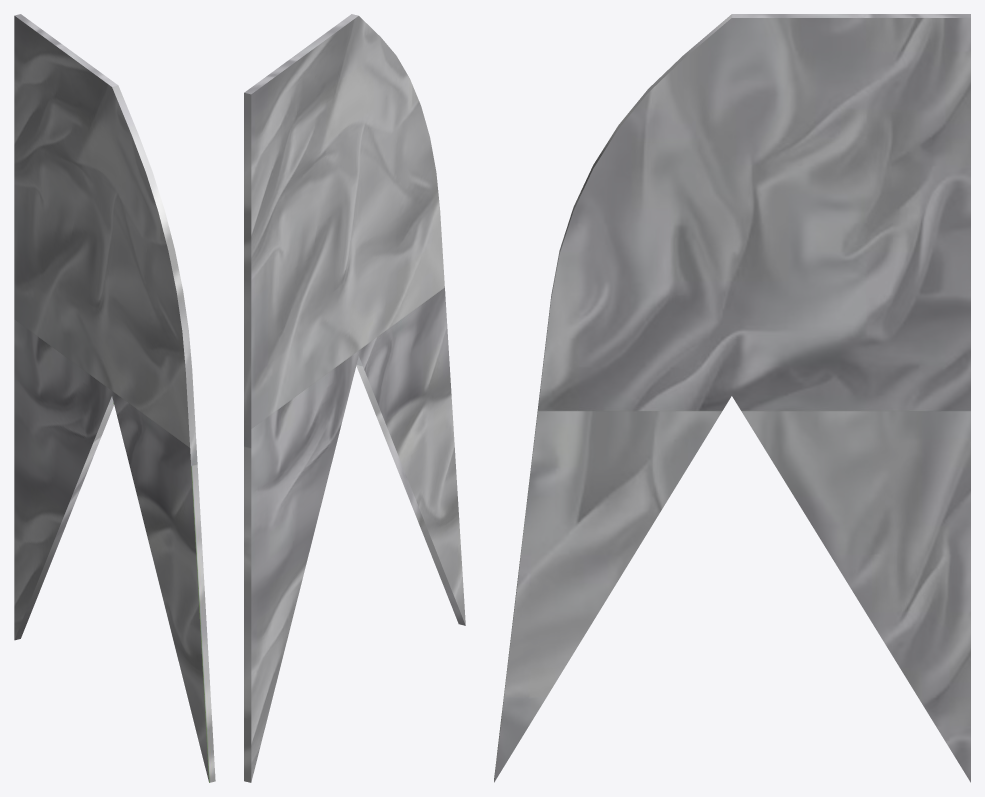
The model's file is Bandera4.obj.
3 renders of one model, left to right at view 1: azimuth 30°, elevation 25°; view 2: azimuth 150°, elevation 25°; view 3: azimuth 270°, elevation 25°, orthographic. The views are drawn at different scales.
Visible parts, largest first — view 1: pCube1; view 2: pCube1; view 3: pCube1.
Part boxes in pixels (<box>): pCube1: <box>14,14,215,782</box>; pCube1: <box>244,14,465,782</box>; pCube1: <box>494,14,970,782</box>.
Bounding box in the file's own units: 0.0182 × 1.68 × 0.9478.
Materials: 1 (1 with a texture image).
